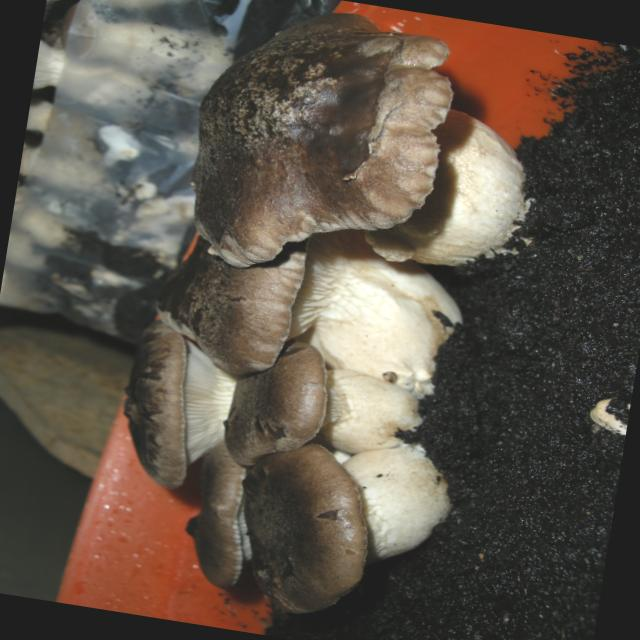Pleurotus eryngii: (177, 5, 553, 298), (174, 402, 493, 632), (163, 225, 476, 409)
